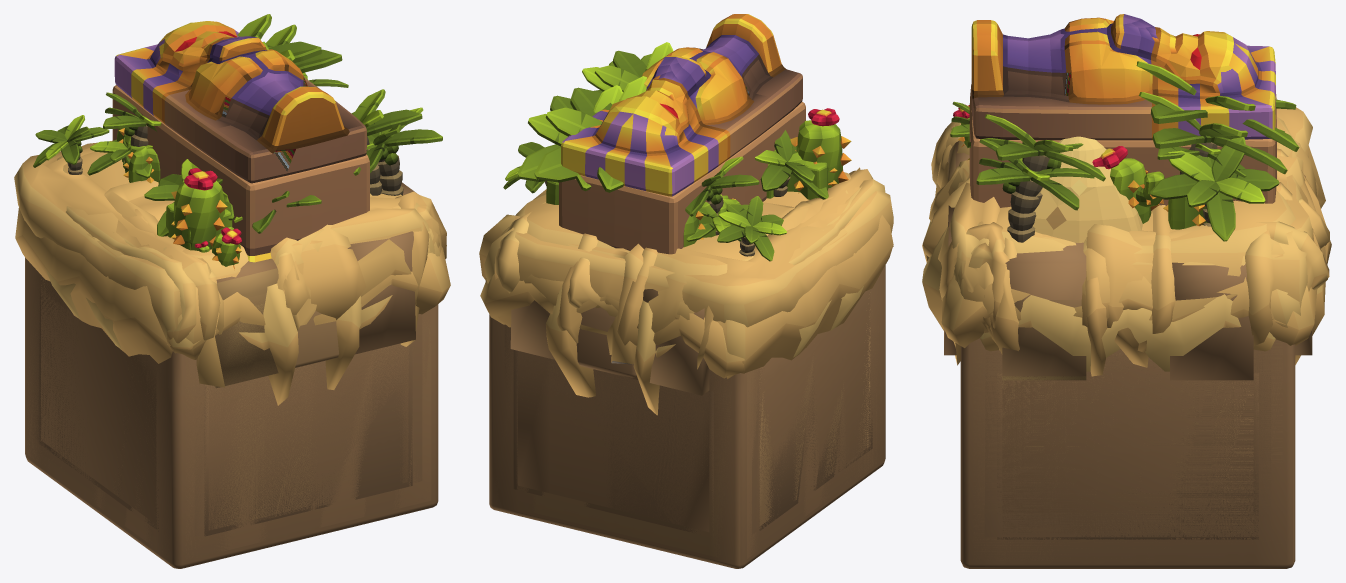
The model's file is Desert_Cubes.fbx.
3 views of the same model, side by side, from view 1: azimuth 30°, elevation 25°; view 2: azimuth 150°, elevation 25°; view 3: azimuth 270°, elevation 25° (orthographic). The views are drawn at different scales.
Parts seen in each view (by area): view 1: Desert1, Desert_Cube_03 .003, Desert4, Desert5, Spring_Cube11.002, Desert2, Desert9, Spring_Cube5.003, Spring_Cube10.003, Desert3, Spring_Cube12.002, Desert_Cube1.002 (+17 smaller); view 2: Desert1, Desert_Cube_03 .003, Desert4, Spring_Cube11.002, Desert3, Desert9, Spring_Cube5.003, Spring_Cube10.003, Spring_Cube4.003, Desert2, Spring_Cube6.003, Desert_Cube1.002 (+13 smaller); view 3: Desert1, Desert_Cube_03 .003, Desert4, Desert5, Spring_Cube10.003, Desert_Cube1.002, Spring_Cube11.002, Desert_Cube_05 .002, Spring_Cube4.003, Spring_Cube12.002, Desert2, Desert_Cube_09 .002 (+15 smaller).
Boxes of the visible parts, x1=… form: Desert1: x1=41, y1=287, x2=408, y2=530; Desert_Cube_03 .003: x1=112, y1=21, x2=369, y2=269; Desert4: x1=25, y1=257, x2=438, y2=568; Desert5: x1=33, y1=277, x2=422, y2=536; Spring_Cube11.002: x1=14, y1=140, x2=287, y2=340; Desert2: x1=38, y1=293, x2=412, y2=536; Desert9: x1=27, y1=263, x2=431, y2=558; Spring_Cube5.003: x1=15, y1=208, x2=442, y2=387; Spring_Cube10.003: x1=57, y1=142, x2=439, y2=334; Desert3: x1=38, y1=297, x2=412, y2=529; Spring_Cube12.002: x1=163, y1=191, x2=446, y2=346; Desert_Cube1.002: x1=45, y1=268, x2=392, y2=405; Desert1: x1=518, y1=289, x2=870, y2=531; Desert_Cube_03 .003: x1=559, y1=14, x2=843, y2=254; Desert4: x1=489, y1=265, x2=885, y2=568; Spring_Cube11.002: x1=479, y1=169, x2=893, y2=327; Desert3: x1=513, y1=350, x2=872, y2=532; Desert9: x1=495, y1=294, x2=882, y2=558; Spring_Cube5.003: x1=498, y1=167, x2=893, y2=378; Spring_Cube10.003: x1=507, y1=186, x2=861, y2=332; Spring_Cube4.003: x1=480, y1=233, x2=744, y2=378; Desert2: x1=514, y1=308, x2=872, y2=535; Spring_Cube6.003: x1=494, y1=179, x2=885, y2=319; Desert_Cube1.002: x1=546, y1=284, x2=863, y2=415; Desert1: x1=1002, y1=349, x2=1253, y2=534; Desert_Cube_03 .003: x1=953, y1=14, x2=1276, y2=210; Desert4: x1=960, y1=338, x2=1295, y2=568; Desert5: x1=984, y1=349, x2=1271, y2=537; Spring_Cube10.003: x1=929, y1=117, x2=1317, y2=350; Desert_Cube1.002: x1=922, y1=221, x2=1331, y2=371; Spring_Cube11.002: x1=931, y1=107, x2=1314, y2=359; Desert_Cube_05 .002: x1=1032, y1=92, x2=1287, y2=242; Spring_Cube4.003: x1=941, y1=148, x2=1329, y2=376; Spring_Cube12.002: x1=923, y1=140, x2=1284, y2=367; Desert2: x1=997, y1=373, x2=1258, y2=539; Desert_Cube_09 .002: x1=976, y1=139, x2=1164, y2=242.
Size of the model in its own units: 119 by 160 by 122.
